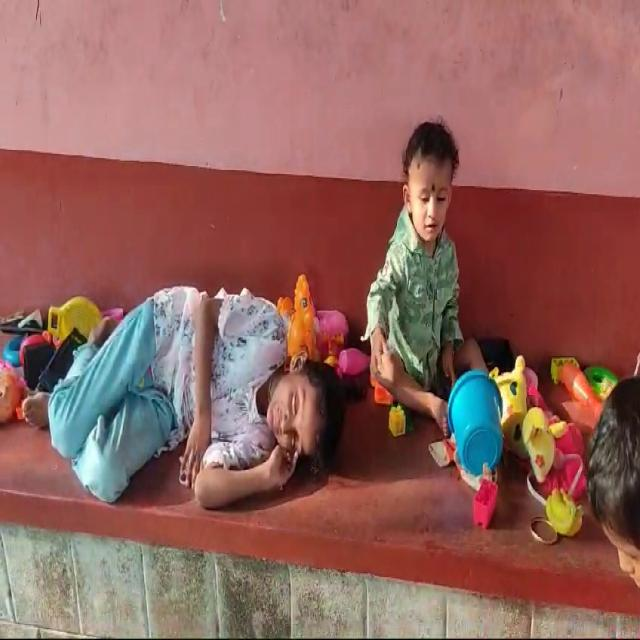child: (2, 286, 348, 534), (363, 110, 485, 519)
